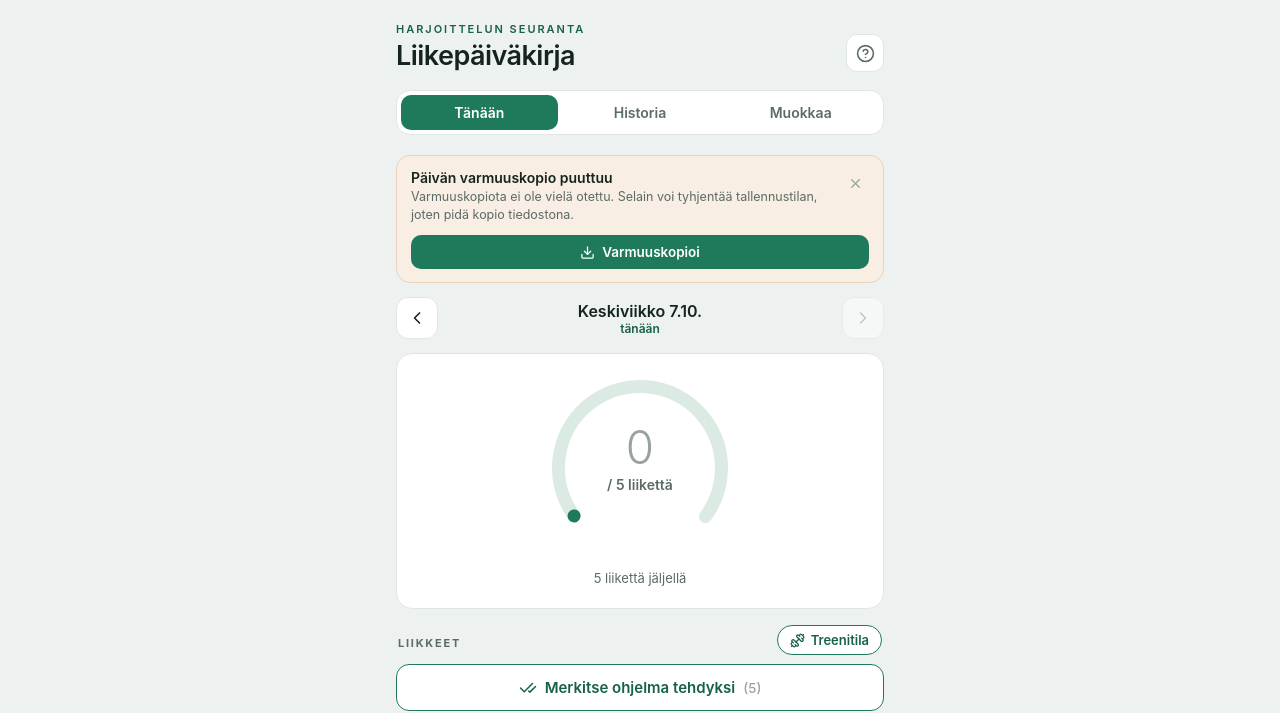
it: help panel › opens from the header at any time and expands one section at a time
The image size is (1280, 713).
Click the button named "Ohjeet ja tietoja".
click(865, 53)  # box [846, 34, 884, 72]
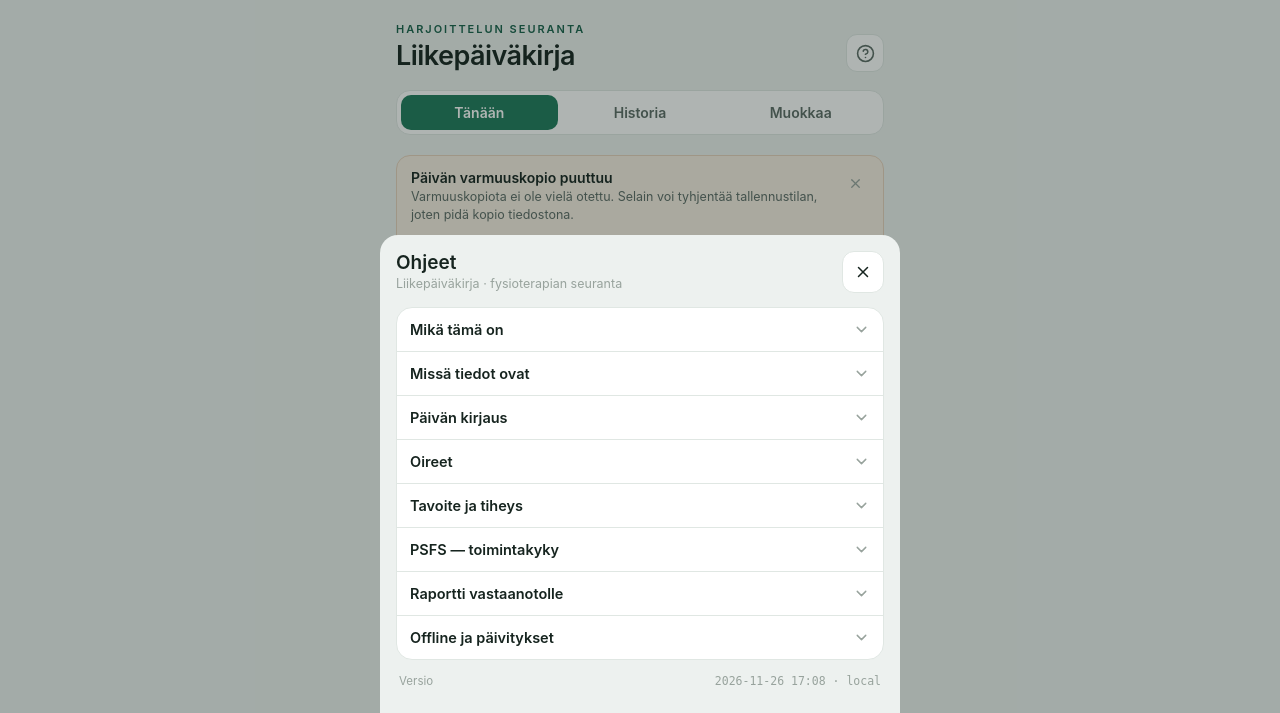
Expected: the text "Ei tiliä, ei palvelinta" is not shown
Now the text "Missä tiedot ovat" is shown, box [410, 365, 530, 382]
Click the button "Missä tiedot ovat".
click(470, 374)  # box [397, 352, 883, 395]
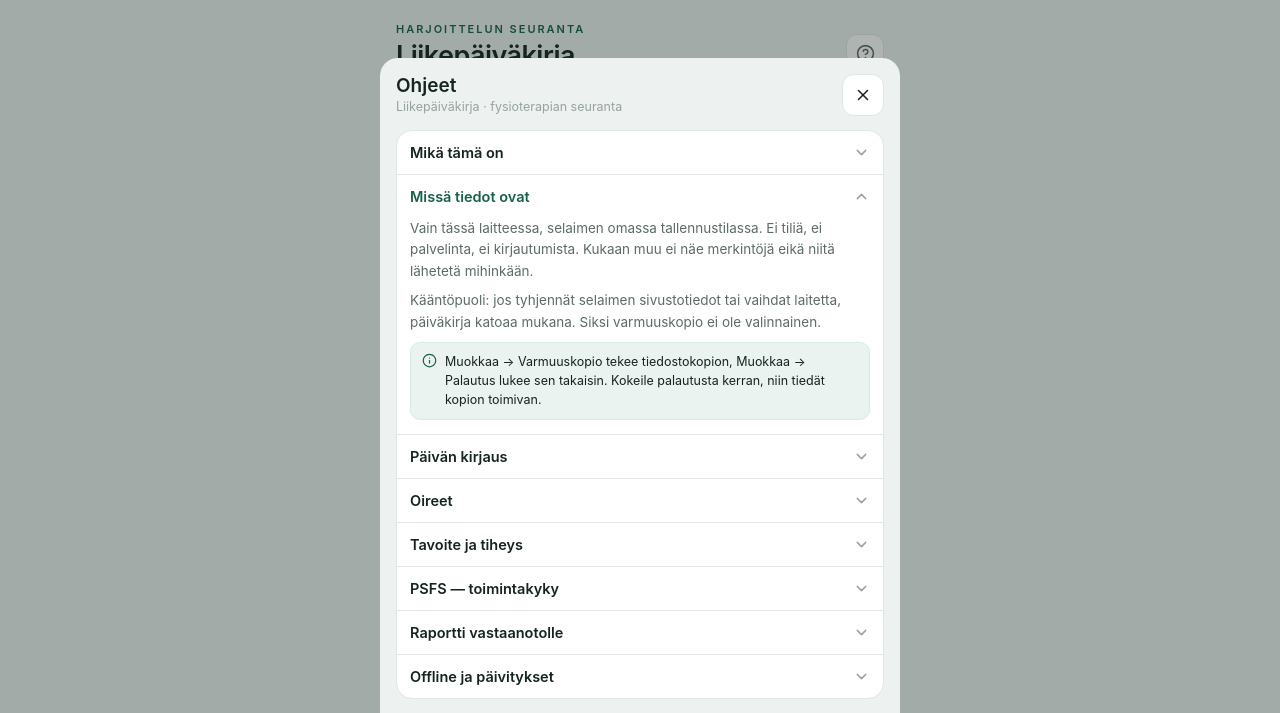
Now the text "Ei tiliä, ei palvelinta" is shown, box [410, 220, 835, 279]
Click the button "PSFS — toimintakyky".
click(485, 588)  # box [397, 567, 883, 610]
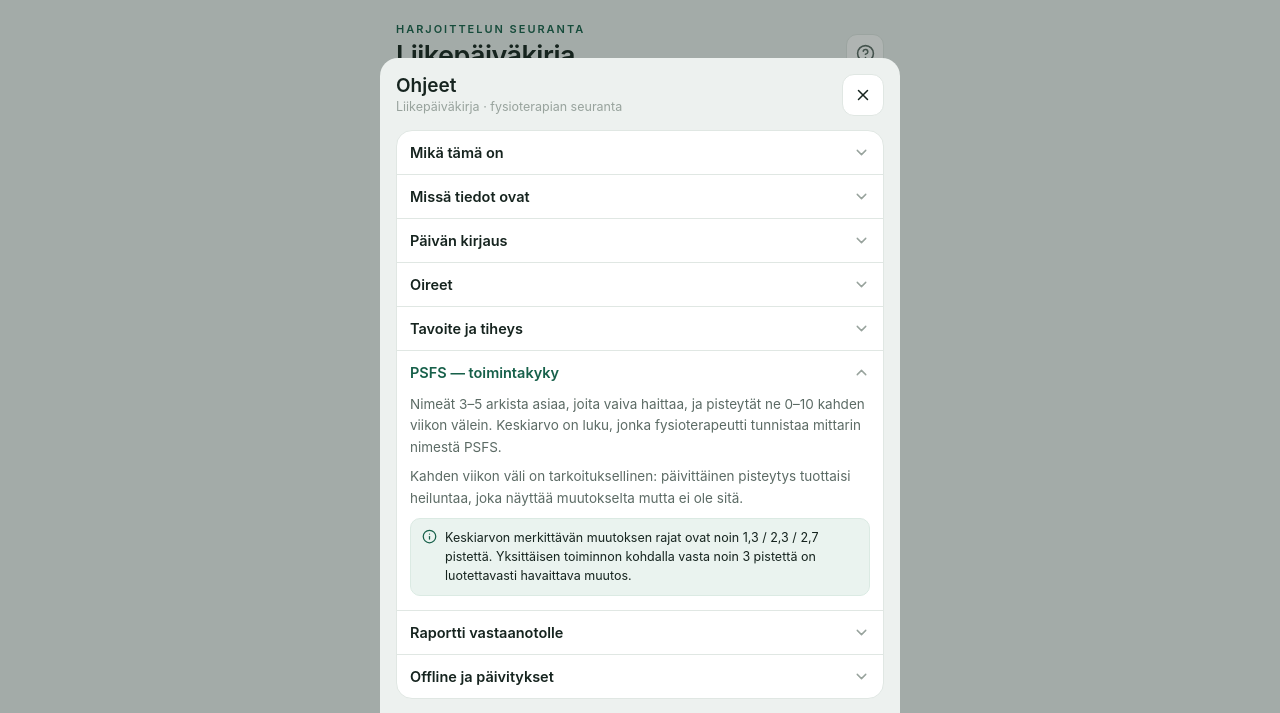
Now the text "Ei tiliä, ei palvelinta" is gone
